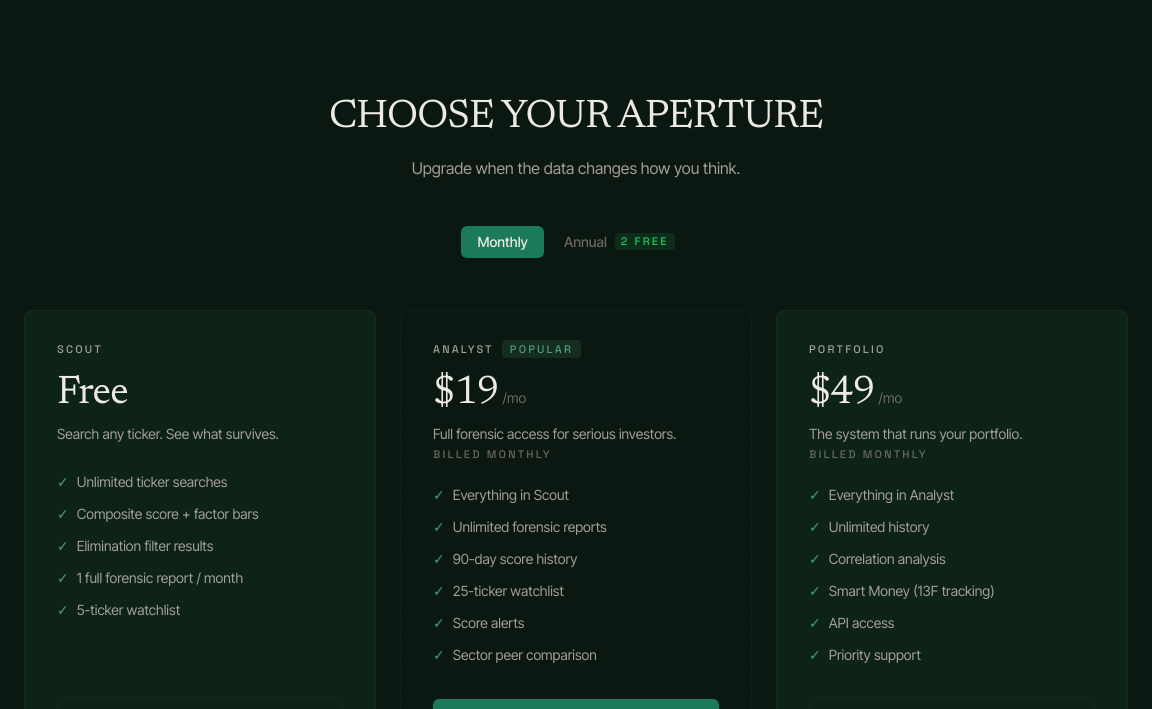
Test case: PricingSection › switches to annual pricing on toggle
This screenshot has width=1152, height=709.
Click the button "Annual 2 FREE": [619, 242] box top-left (548, 226), bottom-right (691, 258)
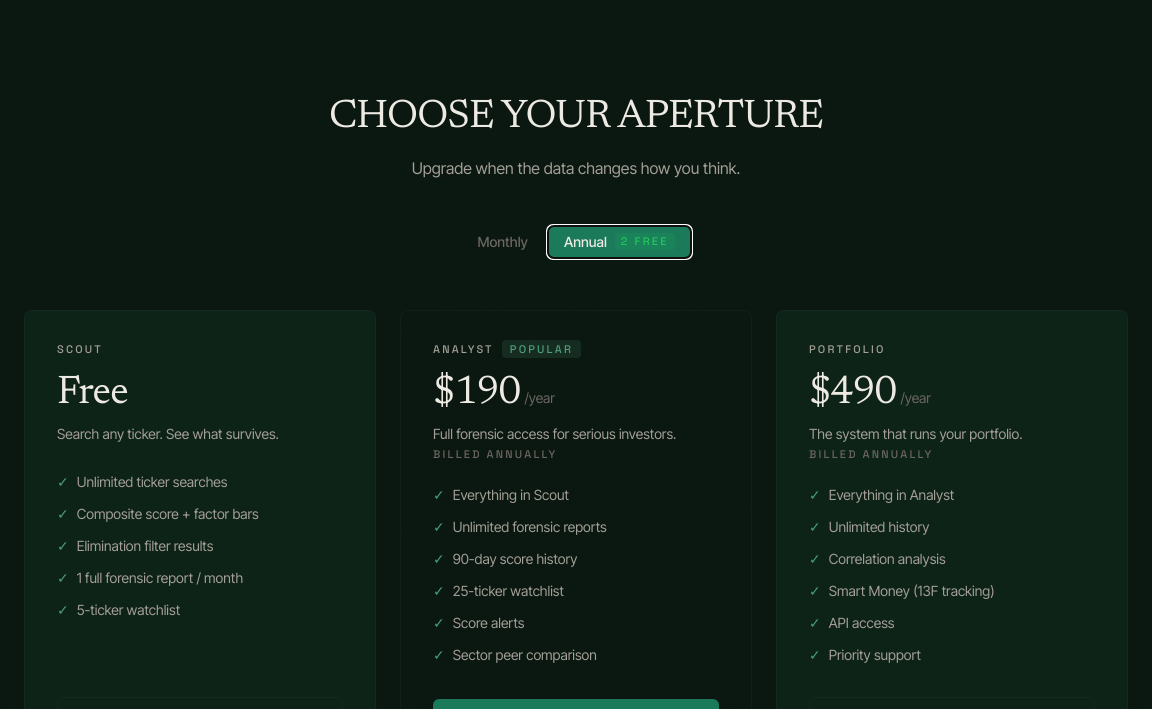
Expected: the text "Free" is shown, top-left (57, 374), bottom-right (128, 414)
Expected: the text "$190" is shown, top-left (433, 374), bottom-right (520, 414)
Expected: the text "$490" is shown, top-left (809, 374), bottom-right (896, 414)
